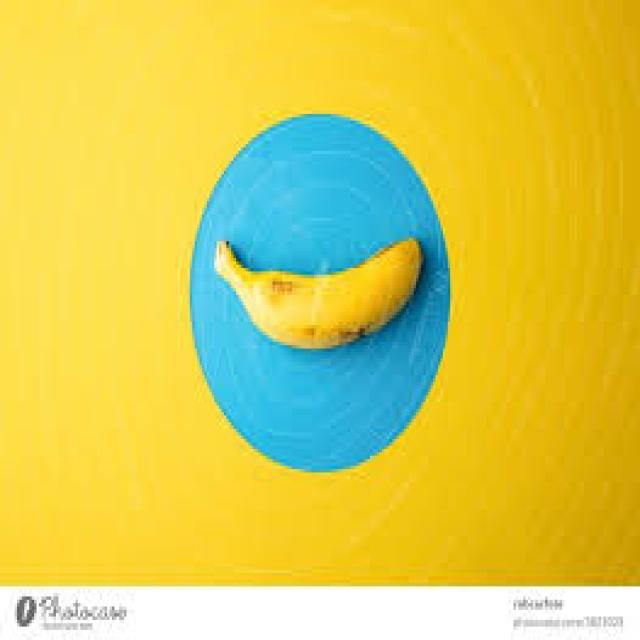Banana: (215, 242, 421, 349)
